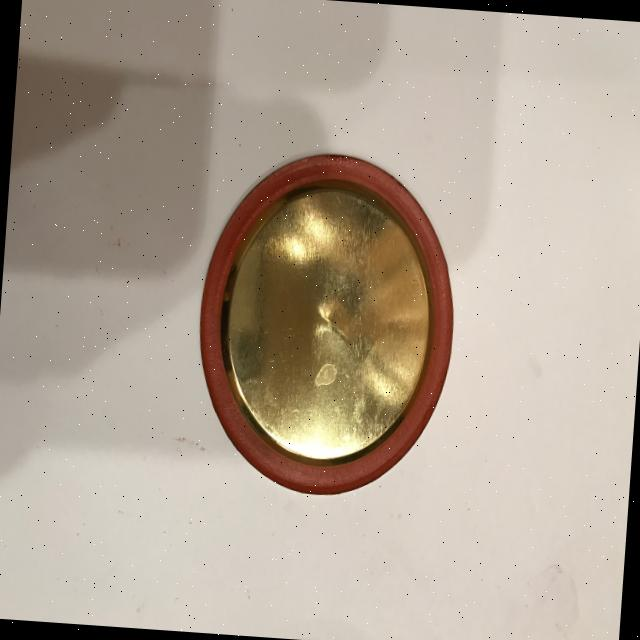metal: (188, 144, 466, 503)
